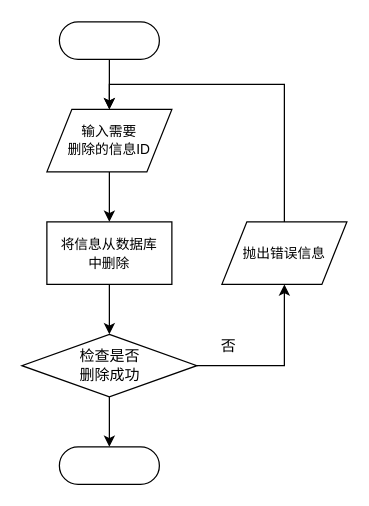
This 369x506 diagram has some shape labels left out. Each missing label, with the centre of its shape:
开始: point 108,40
结束: point 108,465
